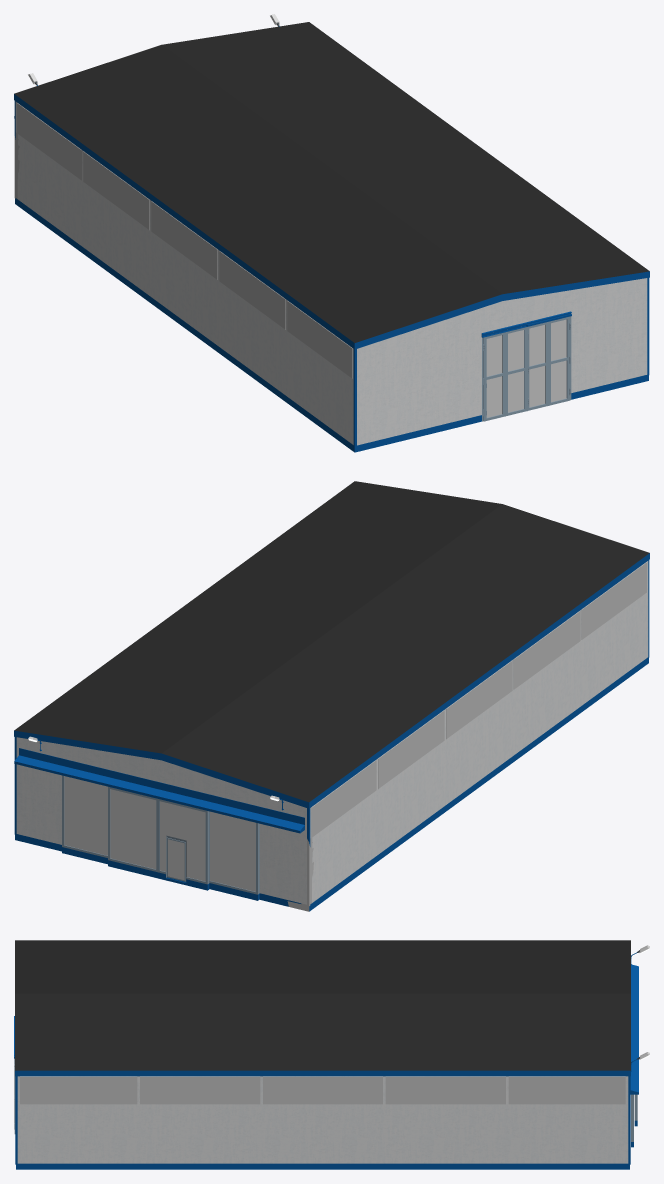
Rendered from edap-hangar-b_LOD02.gltf.
3 views of the same model, one above another, from view 1: azimuth 30°, elevation 25°; view 2: azimuth 150°, elevation 25°; view 3: azimuth 270°, elevation 25° (orthographic). The views are drawn at different scales.
Parts seen in each view (by area): view 1: roof.002, body.002, rear gate.002; view 2: roof.002, body.002, gate rails.006, gate CR.002, gate CL.002, gate RR.002, gate LL.002; view 3: roof.002, body.002, gate rails.006.
Boxes of the visible parts, x1,y1,x2,y2 form: roof.002: (14,22,649,349); body.002: (15,101,648,452); rear gate.002: (482,316,571,421); roof.002: (14,481,649,808); body.002: (15,561,648,911); gate rails.006: (14,748,304,833); gate CR.002: (157,799,209,890); gate CL.002: (108,786,157,878); gate RR.002: (209,811,259,900); gate LL.002: (62,775,107,864); roof.002: (15,940,630,1076); body.002: (16,1076,629,1169); gate rails.006: (630,964,638,1094).
Bounding box in the file's own units: 16.05 × 6.38 × 33.14.
